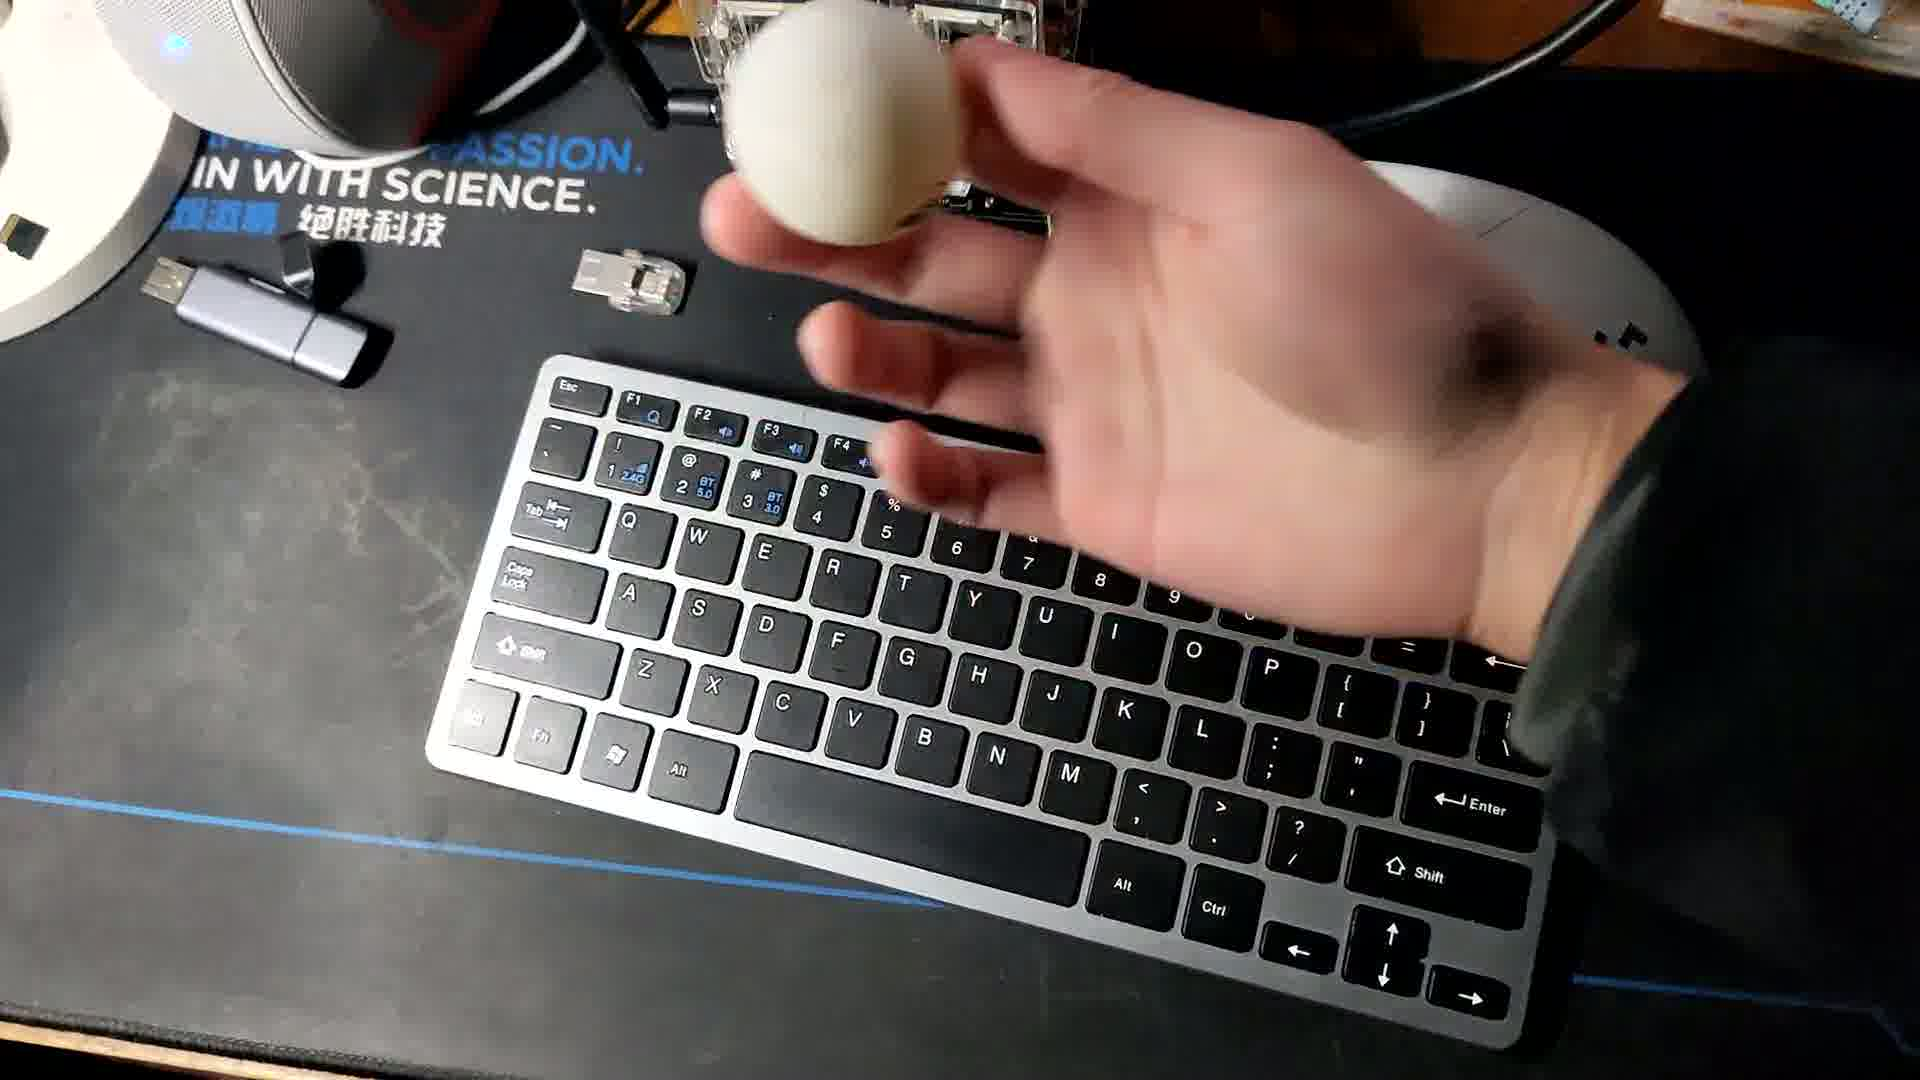Ball: (712, 3, 961, 253)
